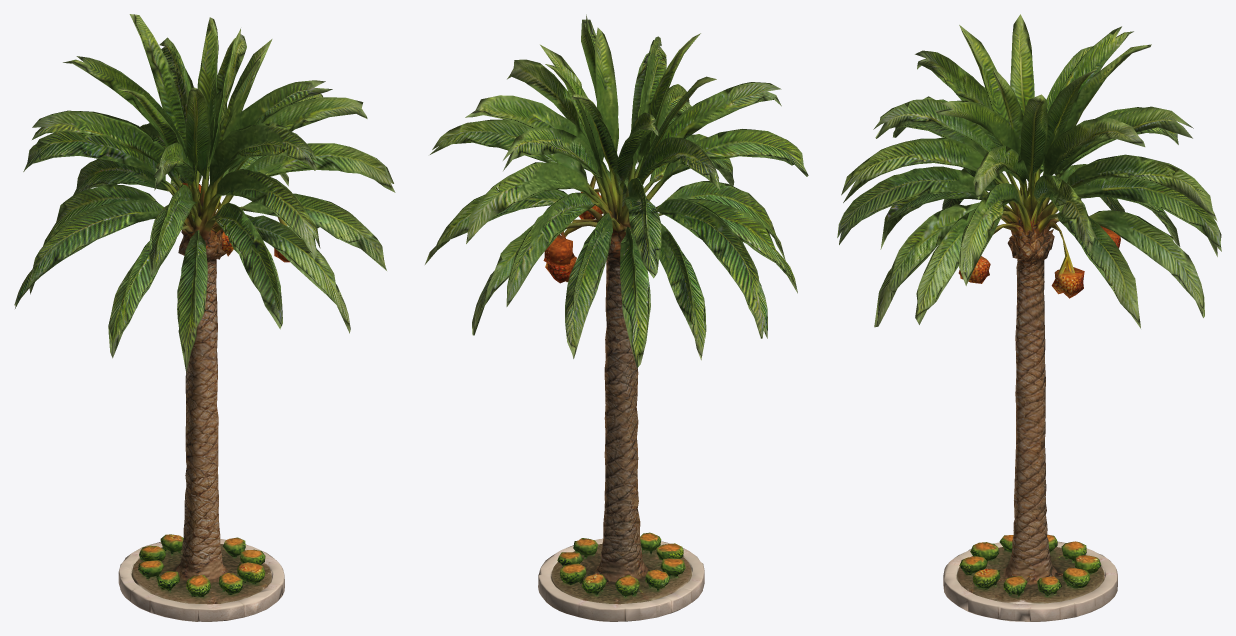
File: palm_date.glb
The picture shows the model from 3 angles, left to right: view 1: azimuth 30°, elevation 25°; view 2: azimuth 150°, elevation 25°; view 3: azimuth 270°, elevation 25°; orthographic projection.
Parts seen in each view (by area): view 1: tripo_node_cbfe8fd2-73d6-4922-8b4d-0bc439fe0051; view 2: tripo_node_cbfe8fd2-73d6-4922-8b4d-0bc439fe0051; view 3: tripo_node_cbfe8fd2-73d6-4922-8b4d-0bc439fe0051.
Part boxes in pixels (x1,y1,x2,y2): tripo_node_cbfe8fd2-73d6-4922-8b4d-0bc439fe0051: (14, 14, 395, 621); tripo_node_cbfe8fd2-73d6-4922-8b4d-0bc439fe0051: (425, 14, 808, 621); tripo_node_cbfe8fd2-73d6-4922-8b4d-0bc439fe0051: (837, 14, 1221, 621).
Bounding box in the file's own units: 0.6412 × 1 × 0.6431.
Materials: 1 (1 with a texture image).
